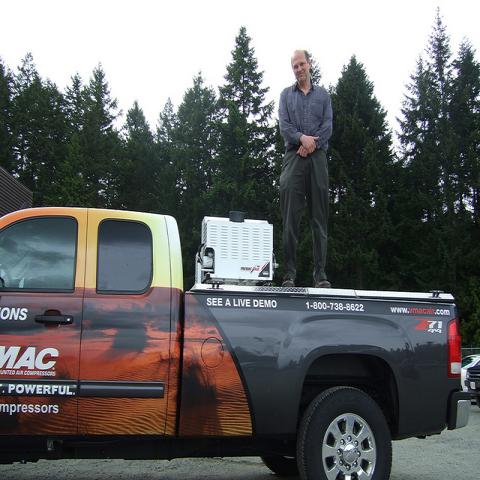car: (461, 354, 479, 398), (464, 358, 480, 407)
truck: (3, 214, 472, 472)
